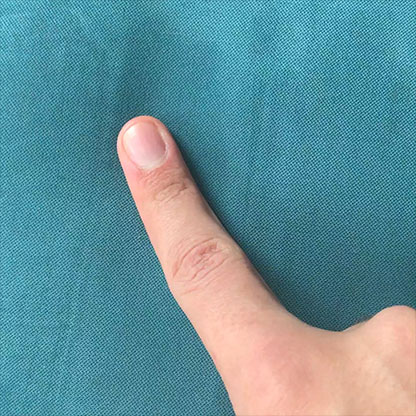fingertip: (105, 107, 195, 190)
